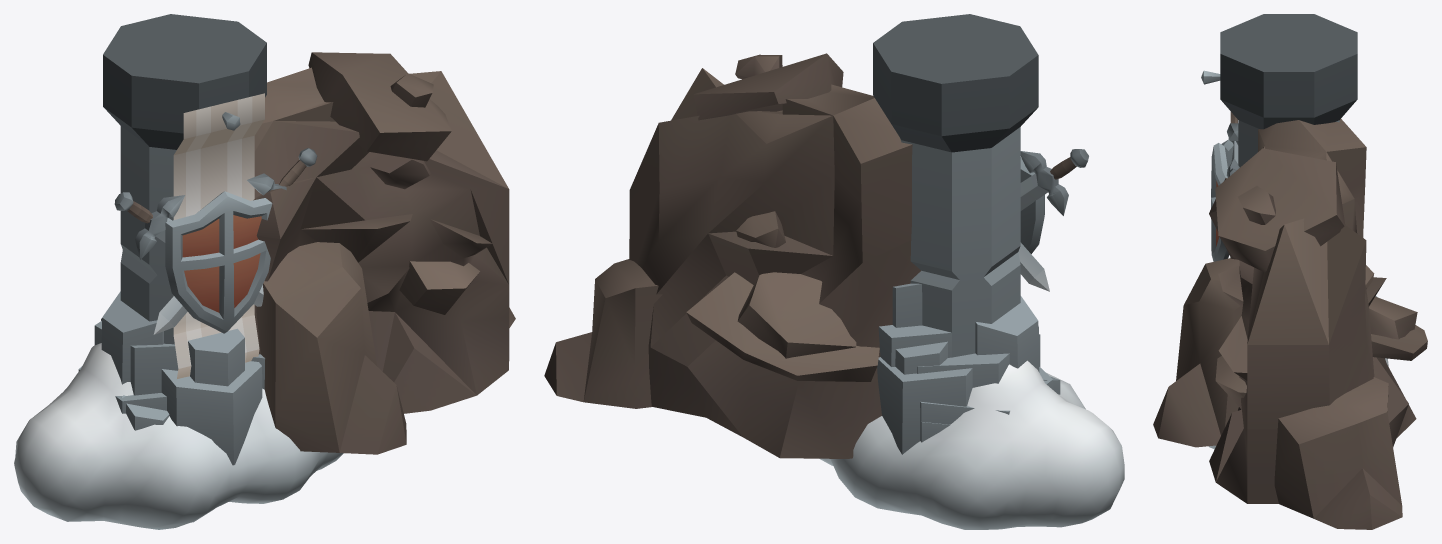
Rendered from decor.glb.
3 views of the same model, side by side, from view 1: azimuth 30°, elevation 25°; view 2: azimuth 150°, elevation 25°; view 3: azimuth 270°, elevation 25° (orthographic). The views are drawn at different scales.
Parts seen in each view (by area): view 1: rubble_half, cloud_big, pillar_decorated, pillar, mountain_C, mountain_A, mountain_B; view 2: rubble_half, pillar, cloud_big, mountain_C, pillar_decorated, mountain_B, mountain_A; view 3: rubble_half, pillar, pillar_decorated.
Part boxes in pixels (x1,y1,x2,y2): rubble_half: (253, 52, 515, 454); cloud_big: (14, 343, 343, 529); pillar_decorated: (114, 93, 317, 378); pillar: (103, 14, 266, 344); mountain_C: (101, 291, 262, 465); mountain_A: (94, 321, 265, 395); mountain_B: (78, 366, 166, 413); rubble_half: (544, 53, 921, 458); pillar: (873, 14, 1038, 357); cloud_big: (819, 360, 1124, 529); mountain_C: (877, 296, 1060, 454); pillar_decorated: (1018, 149, 1088, 291); mountain_B: (878, 283, 1053, 441); mountain_A: (917, 327, 1038, 442); rubble_half: (1153, 119, 1427, 529); pillar: (1220, 14, 1357, 167); pillar_decorated: (1201, 70, 1239, 261).
Size of the model in its own units: 5.8 by 4.91 by 3.
2 materials, 2 textured.
